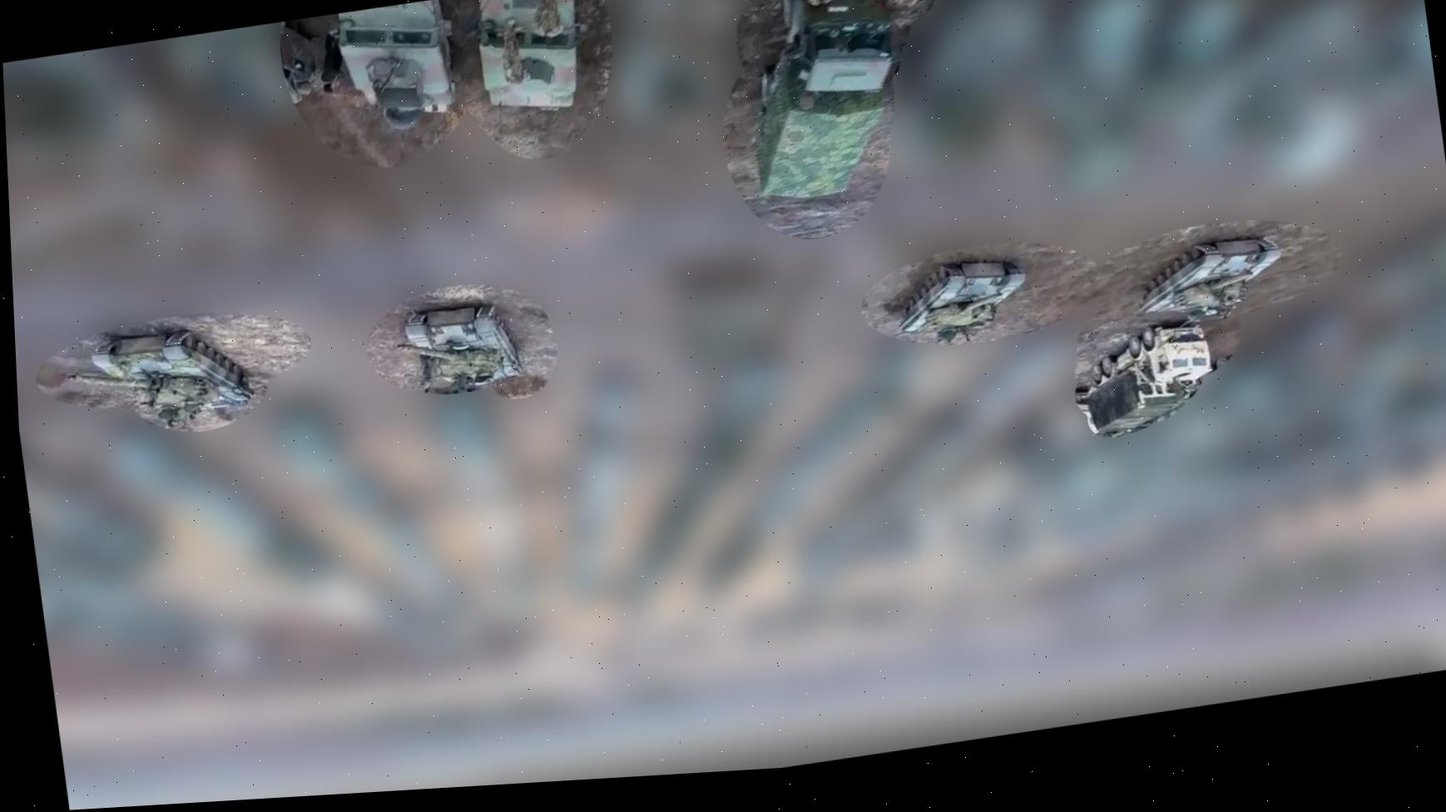armored_car: (322, 0, 459, 135), (461, 0, 595, 127)
tank: (81, 313, 259, 445), (1128, 229, 1291, 332), (887, 243, 1037, 354), (394, 288, 526, 402)
truck: (721, 0, 923, 210), (1067, 314, 1224, 442)
